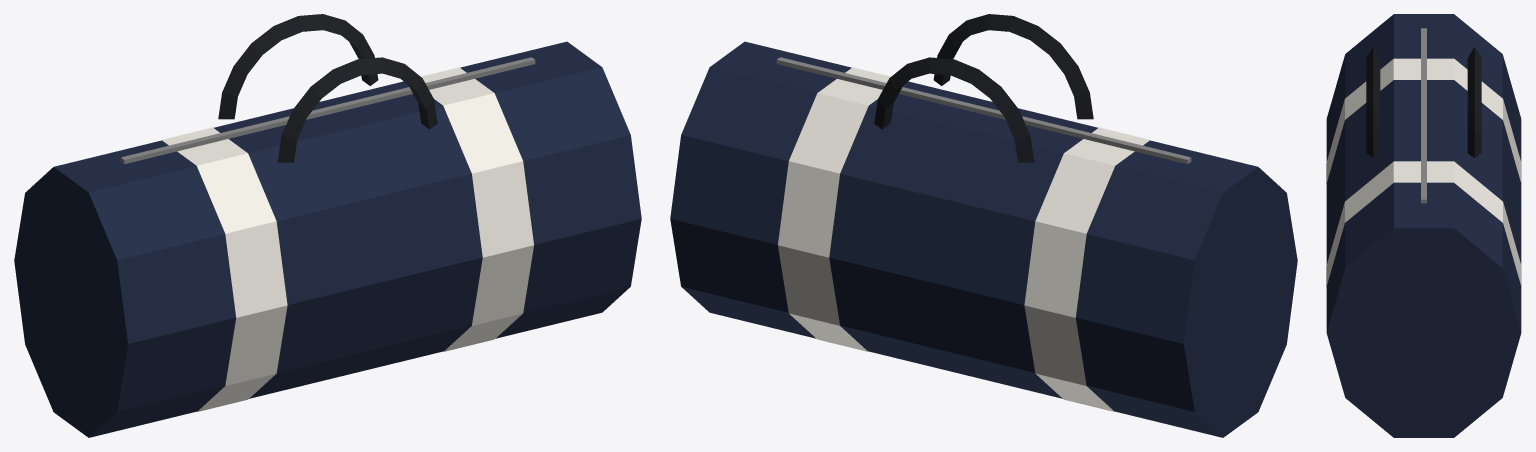
Rendered from bag-holdall.glb.
The picture shows the model from 3 angles, left to right: view 1: azimuth 30°, elevation 25°; view 2: azimuth 150°, elevation 25°; view 3: azimuth 270°, elevation 25°; orthographic projection. The views are drawn at different scales.
Visible parts, largest first — view 1: bag_holdall; view 2: bag_holdall; view 3: bag_holdall.
Part boxes in pixels (x1,y1,x2,y2): bag_holdall: [14, 14, 641, 437]; bag_holdall: [670, 14, 1297, 437]; bag_holdall: [1326, 14, 1521, 437].
Bounding box in the file's own units: 0.5 × 0.3026 × 0.1928.
